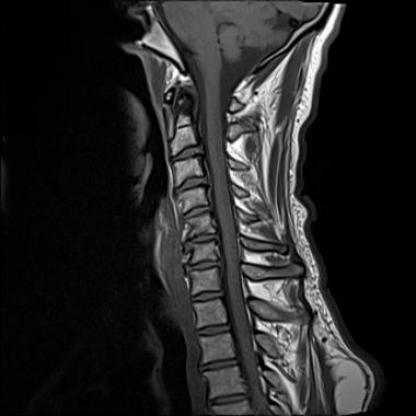Disc Bulgerotation: (169, 145, 205, 166), (184, 257, 223, 274), (173, 176, 211, 193), (181, 231, 221, 246), (177, 205, 215, 220)
Disc Protrusionrotation: (169, 145, 206, 166), (181, 230, 221, 246), (184, 257, 224, 273), (177, 205, 216, 220)
